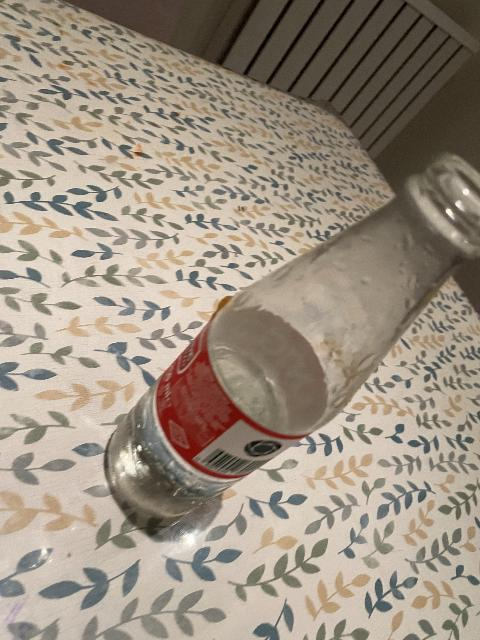Cam: (98, 146, 480, 522)
Plastik: (130, 279, 311, 479)
